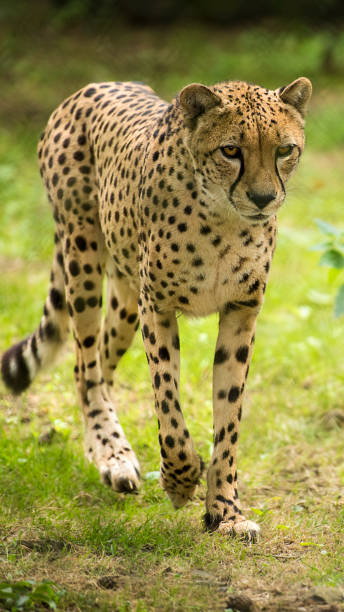cheetah: (164, 67, 313, 244)
